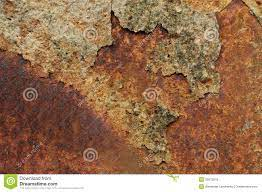rust: (2, 44, 155, 176), (83, 12, 194, 106), (205, 5, 262, 167), (146, 101, 262, 174)
